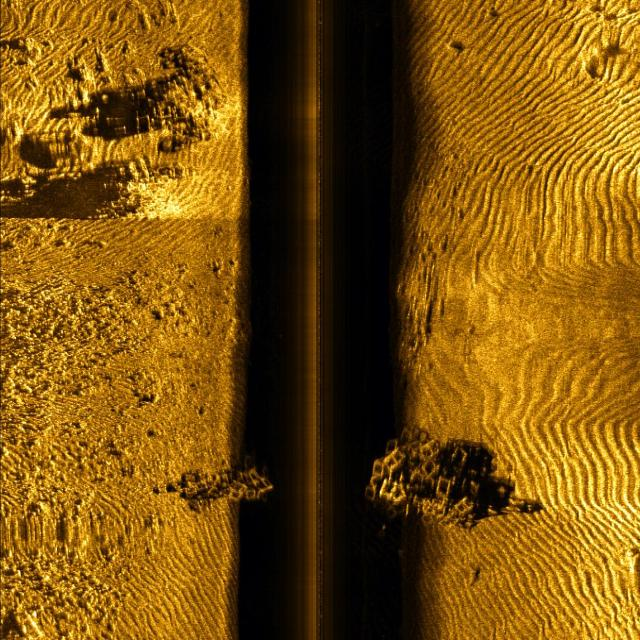artificial reef: (359, 431, 484, 536), (193, 452, 274, 512)
